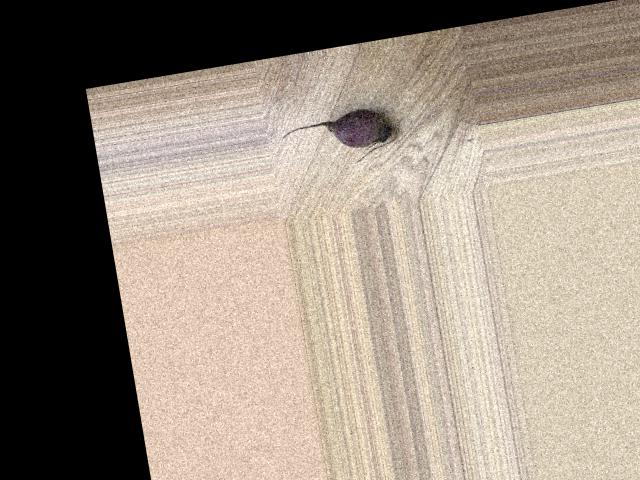beet: (279, 103, 400, 173)
